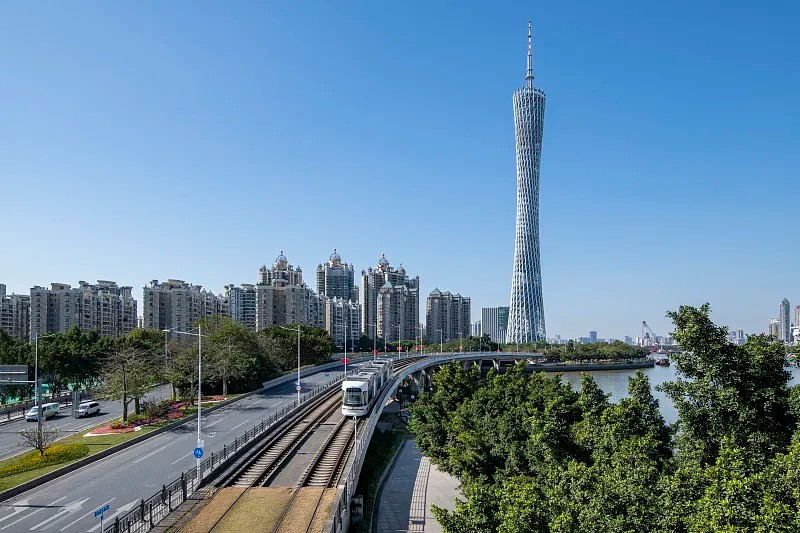Canton: (505, 19, 548, 344)
